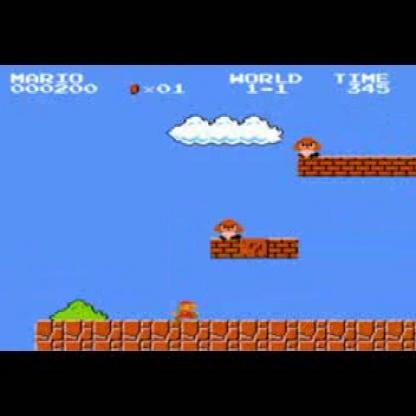Goomba: (295, 134, 322, 160)
Hoyo: (0, 318, 38, 354)
